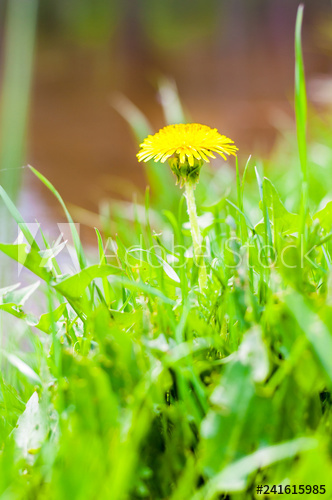dandelion: (134, 107, 237, 165)
